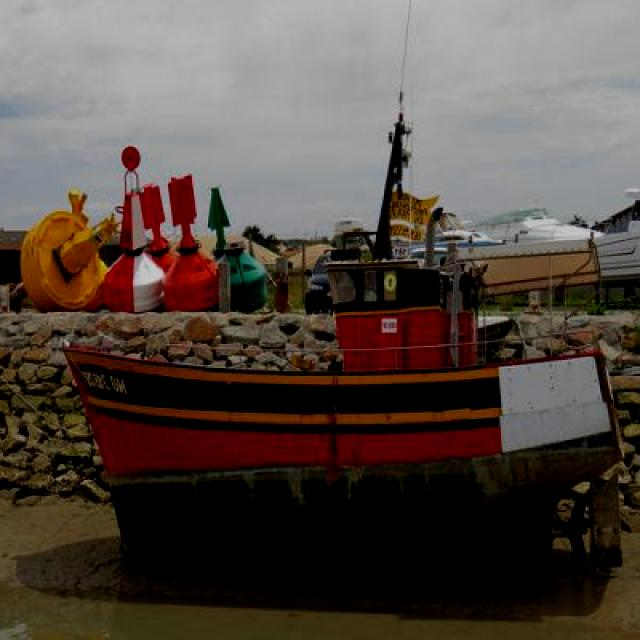ship: (62, 242, 614, 590)
